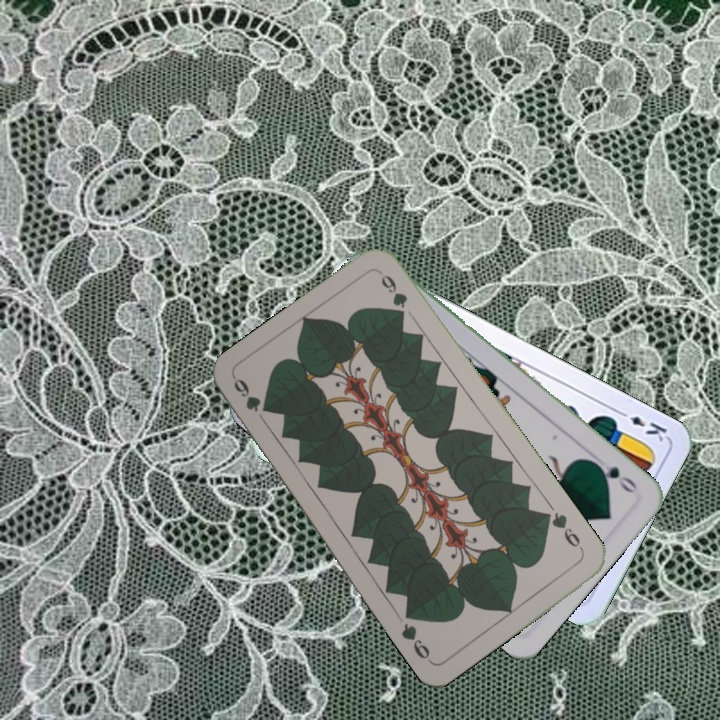EK: (613, 406, 670, 444)
G9: (540, 507, 587, 555), (229, 374, 262, 415)
GO: (589, 457, 640, 496)
